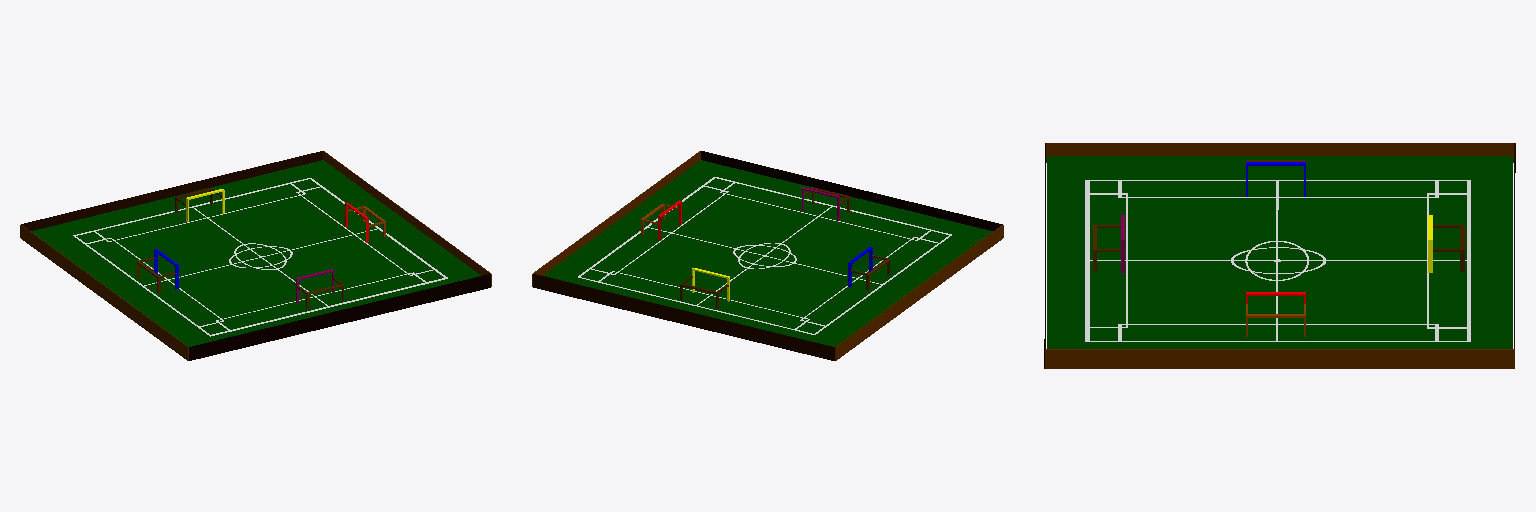
The robot description file, URDF, robot "arena":
<?xml version="1.0"?>
<!-- created with Phobos 1.0.1 "Capricious Choutengan" -->
  <robot name="arena">

    <link name="boundary">
      <inertial>
        <origin xyz="0 0 0" rpy="0 0 0"/>
        <mass value="0.001"/>
        <inertia ixx="0.001" ixy="0" ixz="0" iyy="0.001" iyz="0" izz="0.001"/>
      </inertial>
      <visual name="visual_0_field_1_20">
        <origin xyz="-0.37359 17.80021 0.49249" rpy="0 0 1.57"/>
        <geometry>
          <box size="0.0795 36.25032 1.58993"/>
        </geometry>
        <material name="field_1_20_visual_material"/>
      </visual>
      <visual name="visual_0_field_1_21">
        <origin xyz="-0.37359 -17.17816 0.49249" rpy="0 0 1.57"/>
        <geometry>
          <box size="0.0795 36.25032 1.58993"/>
        </geometry>
        <material name="field_1_21_visual_material"/>
      </visual>
      <visual name="visual_0_field_1_22">
        <origin xyz="17.81516 0.31103 0.49249" rpy="0 0 0"/>
        <geometry>
          <box size="0.0795 34.97837 1.58993"/>
        </geometry>
        <material name="field_1_22_visual_material.001"/>
      </visual>
      <visual name="visual_0_field_1_23">
        <origin xyz="-18.56234 0.31103 0.49249" rpy="0 0 0"/>
        <geometry>
          <box size="0.0795 34.97837 1.58993"/>
        </geometry>
        <material name="field_1_23_visual_material"/>
      </visual>
      <collision name="collision_0_field_1_20.000">
        <origin xyz="-0.37359 17.80021 0.49249" rpy="0 0 1.57"/>
        <geometry>
          <box size="0.0795 36.25032 1.58993"/>
        </geometry>
      </collision>
      <collision name="collision_0_field_1_21.000">
        <origin xyz="-0.37359 -17.17816 0.49249" rpy="0 0 1.57"/>
        <geometry>
          <box size="0.0795 36.25032 1.58993"/>
        </geometry>
      </collision>
      <collision name="collision_0_field_1_22.000">
        <origin xyz="17.81516 0.31103 0.49249" rpy="0 0 0"/>
        <geometry>
          <box size="0.0795 34.97837 1.58993"/>
        </geometry>
      </collision>
      <collision name="collision_0_field_1_23.000">
        <origin xyz="-18.56234 0.31103 0.49249" rpy="0 0 0"/>
        <geometry>
          <box size="0.0795 34.97837 1.58993"/>
        </geometry>
      </collision>
    </link>

    <link name="field_1">
      <inertial>
        <origin xyz="0 0 0" rpy="0 0 0"/>
        <mass value="0.001"/>
        <inertia ixx="0.001" ixy="0" ixz="0" iyy="0.001" iyz="0" izz="0.001"/>
      </inertial>
      <visual name="visual_0_field_1_10">
        <origin xyz="-0.37359 0.31103 0.00086" rpy="0 0 0"/>
        <geometry>
          <mesh filename="../meshes/dae/Field.001.dae" scale="3.49784 4.70071 4.76978"/>
        </geometry>
        <material name="field_1_10_visual_material"/>
      </visual>
      <collision name="collision_4_field_1">
        <origin xyz="-0.37359 0.31103 0.00086" rpy="0 0 0"/>
        <geometry>
          <box size="36.29588 34.78526 0.01431"/>
        </geometry>
      </collision>
    </link>

    <link name="field_1_10">
      <inertial>
        <origin xyz="0 0 0" rpy="0 0 0"/>
        <mass value="0.001"/>
        <inertia ixx="0.001" ixy="0" ixz="0" iyy="0.001" iyz="0" izz="0.001"/>
      </inertial>
    </link>

    <link name="field_1_3">
      <inertial>
        <origin xyz="0 0 0" rpy="0 0 0"/>
        <mass value="0.001"/>
        <inertia ixx="0.001" ixy="0" ixz="0" iyy="0.001" iyz="0" izz="0.001"/>
      </inertial>
      <visual name="visual_0_field_1_3">
        <origin xyz="-0.0403 0 -0.25252" rpy="0 0 0"/>
        <geometry>
          <mesh filename="../meshes/dae/Goalsopponent.dae" scale="3.09574 1.58993 1.58993"/>
        </geometry>
        <material name="field_1_3_visual_material"/>
      </visual>
      <collision name="Cube.004">
        <origin xyz="0.28285 -2.15724 0.20997" rpy="0 0 -3.14159"/>
        <geometry>
          <box size="2.34629 0.24 2.4"/>
        </geometry>
      </collision>
      <collision name="Cube.005">
        <origin xyz="0.28285 2.1699 0.20997" rpy="0 0 -3.14159"/>
        <geometry>
          <box size="2.34629 0.24 2.4"/>
        </geometry>
      </collision>
      <collision name="Cube.008">
        <origin xyz="1.398 0.02224 0.18806" rpy="0 0 1.5708"/>
        <geometry>
          <box size="4.48805 0.31154 2.4"/>
        </geometry>
      </collision>
    </link>

    <link name="field_1_4">
      <inertial>
        <origin xyz="0 0 0" rpy="0 0 0"/>
        <mass value="0.001"/>
        <inertia ixx="0.001" ixy="0" ixz="0" iyy="0.001" iyz="0" izz="0.001"/>
      </inertial>
      <visual name="visual_0_field_1_4">
        <origin xyz="-0.13031 8e-05 -0.25252" rpy="0 0 0"/>
        <geometry>
          <mesh filename="../meshes/dae/Goalsopponent.002.dae" scale="2.975 1.58993 1.58993"/>
        </geometry>
        <material name="field_1_4_visual_material"/>
      </visual>
      <collision name="Cube">
        <origin xyz="0.26586 2.11104 0.20997" rpy="0 0 3.14095"/>
        <geometry>
          <box size="2.25478 0.24 2.4"/>
        </geometry>
      </collision>
      <collision name="Cube.006">
        <origin xyz="0.26162 -2.15475 0.20997" rpy="0 0 3.14095"/>
        <geometry>
          <box size="2.25478 0.24 2.4"/>
        </geometry>
      </collision>
      <collision name="Cube.010">
        <origin xyz="1.29761 -0.0285 0.18806" rpy="0 0 1.5698"/>
        <geometry>
          <box size="4.48806 0.29939 2.4"/>
        </geometry>
      </collision>
    </link>

    <link name="field_1_5">
      <inertial>
        <origin xyz="0 0 0" rpy="0 0 0"/>
        <mass value="0.001"/>
        <inertia ixx="0.001" ixy="0" ixz="0" iyy="0.001" iyz="0" izz="0.001"/>
      </inertial>
      <visual name="visual_0_field_1_1">
        <origin xyz="0.18094 0 -0.25252" rpy="0 0 0"/>
        <geometry>
          <mesh filename="../meshes/dae/Goalsally.dae" scale="3.22758 1.58993 1.58993"/>
        </geometry>
        <material name="field_1_1_visual_material"/>
      </visual>
      <collision name="Cube.002">
        <origin xyz="-0.17927 2.12565 0.20997" rpy="0 0 -3.14159"/>
        <geometry>
          <box size="2.44621 0.24 2.4"/>
        </geometry>
      </collision>
      <collision name="Cube.003">
        <origin xyz="-0.17927 -2.15724 0.20997" rpy="0 0 -3.14159"/>
        <geometry>
          <box size="2.44621 0.24 2.4"/>
        </geometry>
      </collision>
      <collision name="Cube.009">
        <origin xyz="-1.28207 0.02224 0.18806" rpy="0 0 1.5708"/>
        <geometry>
          <box size="4.48805 0.3248 2.4"/>
        </geometry>
      </collision>
    </link>

    <link name="field_1_6">
      <inertial>
        <origin xyz="0 0 0" rpy="0 0 0"/>
        <mass value="0.001"/>
        <inertia ixx="0.001" ixy="0" ixz="0" iyy="0.001" iyz="0" izz="0.001"/>
      </inertial>
      <visual name="visual_0_field_1_2">
        <origin xyz="0.53928 0.00569 -0.25252" rpy="0 0 0"/>
        <geometry>
          <mesh filename="../meshes/dae/Goalsally.002.dae" scale="3.35214 1.58993 1.58993"/>
        </geometry>
        <material name="field_1_2_visual_material"/>
      </visual>
      <collision name="Cube.001">
        <origin xyz="0.19793 -2.08137 0.20997" rpy="0 0 3.14103"/>
        <geometry>
          <box size="2.54062 0.24 2.4"/>
        </geometry>
      </collision>
      <collision name="Cube.007">
        <origin xyz="0.18283 2.11675 0.20997" rpy="0 0 3.14103"/>
        <geometry>
          <box size="2.54062 0.24 2.4"/>
        </geometry>
      </collision>
      <collision name="Cube.011">
        <origin xyz="-1.01558 0.01088 0.18806" rpy="0 0 1.56968"/>
        <geometry>
          <box size="4.41311 0.33734 2.4"/>
        </geometry>
      </collision>
    </link>

    <link name="field_1_9">
      <inertial>
        <origin xyz="0 0 0" rpy="0 0 0"/>
        <mass value="0.001"/>
        <inertia ixx="0.001" ixy="0" ixz="0" iyy="0.001" iyz="0" izz="0.001"/>
      </inertial>
      <visual name="visual_0_field_1_11">
        <origin xyz="0.91214 -0.46502 -0.10845" rpy="0 0 1.57"/>
        <geometry>
          <mesh filename="../meshes/dae/Lines.dae" scale="3.17985 4.76978 4.76978"/>
        </geometry>
        <material name="field_1_11_visual_material"/>
      </visual>
      <visual name="visual_0_field_1_9">
        <origin xyz="-0.15082 -0.92735 -0.08445" rpy="0 0 0"/>
        <geometry>
          <mesh filename="../meshes/dae/Lines.002.dae" scale="3.17985 4.76978 4.76978"/>
        </geometry>
        <material name="field_1_9_visual_material"/>
      </visual>
    </link>

    <link name="new_link">
      <inertial>
        <origin xyz="0 0 0" rpy="0 0 0"/>
        <mass value="0.001"/>
        <inertia ixx="0.001" ixy="0" ixz="0" iyy="0.001" iyz="0" izz="0.001"/>
      </inertial>
      <visual name="visual_0_field_1_5">
        <origin xyz="-13.13893 0.37254 1.28951" rpy="0 0 0"/>
        <geometry>
          <mesh filename="../meshes/dae/Goalsallyback.dae" scale="3.22758 1.58993 1.58993"/>
        </geometry>
        <material name="field_1_5_visual_material"/>
      </visual>
      <visual name="visual_0_field_1_6">
        <origin xyz="-0.31394 13.57782 1.28951" rpy="0 0 -1.57"/>
        <geometry>
          <mesh filename="../meshes/dae/Goalsallyback.001.dae" scale="3.35214 1.58993 1.58993"/>
        </geometry>
        <material name="field_1_6_visual_material"/>
      </visual>
      <visual name="visual_0_field_1_7">
        <origin xyz="12.72299 0.37254 1.28951" rpy="0 0 0"/>
        <geometry>
          <mesh filename="../meshes/dae/Goalsopponentback.003.dae" scale="3.09574 1.58993 1.58993"/>
        </geometry>
        <material name="field_1_7_visual_material.001"/>
      </visual>
      <visual name="visual_0_field_1_8">
        <origin xyz="-0.31942 -12.46241 1.28951" rpy="0 0 -1.57"/>
        <geometry>
          <mesh filename="../meshes/dae/Goalsopponentback.dae" scale="2.975 1.58993 1.58993"/>
        </geometry>
        <material name="field_1_8_visual_material"/>
      </visual>
    </link>

    <joint name="boundary" type="floating">
      <origin xyz="0 0 -0.264" rpy="0 0 0"/>
      <parent link="field_1"/>
      <child link="boundary"/>
    </joint>

    <joint name="field_1_10_fixing" type="fixed">
      <origin xyz="0 0.31103 0.1527" rpy="0 0 0"/>
      <parent link="field_1"/>
      <child link="field_1_10"/>
      <limit effort="1" velocity="20"/>
    </joint>

    <joint name="field_1_3_fixing" type="fixed">
      <origin xyz="12.36481 0 1.03193" rpy="0 0 0"/>
      <parent link="field_1"/>
      <child link="field_1_3"/>
      <limit effort="1" velocity="20"/>
    </joint>

    <joint name="field_1_4_fixing" type="fixed">
      <origin xyz="0 -12.18337 1.03193" rpy="0 0 -1.57"/>
      <parent link="field_1"/>
      <child link="field_1_4"/>
      <limit effort="1" velocity="20"/>
    </joint>

    <joint name="field_1_5_fixing" type="fixed">
      <origin xyz="-12.25401 0 1.03193" rpy="0 0 0"/>
      <parent link="field_1"/>
      <child link="field_1_5"/>
      <limit effort="1" velocity="20"/>
    </joint>

    <joint name="field_1_6_fixing" type="fixed">
      <origin xyz="0 12.8522 1.03193" rpy="0 0 -1.57"/>
      <parent link="field_1"/>
      <child link="field_1_6"/>
      <limit effort="1" velocity="20"/>
    </joint>

    <joint name="field_1_9_fixing" type="fixed">
      <origin xyz="0 0.31103 0.1527" rpy="0 0 0"/>
      <parent link="field_1"/>
      <child link="field_1_9"/>
      <limit effort="1" velocity="20"/>
    </joint>

    <joint name="new_link" type="floating">
      <origin xyz="0.31985 -0.37254 0.0176" rpy="0 0 0"/>
      <parent link="field_1"/>
      <child link="new_link"/>
    </joint>

    <material name="field_1_10_visual_material">
      <color rgba="0 0.3 0 1.0"/>
    </material>

    <material name="field_1_11_visual_material">
      <color rgba="0.91765 0.91765 0.91765 1.0"/>
    </material>

    <material name="field_1_1_visual_material">
      <color rgba="0 0 1.0 1.0"/>
    </material>

    <material name="field_1_20_visual_material">
      <color rgba="0.16265 0.06479 0.00725 1.0"/>
    </material>

    <material name="field_1_21_visual_material">
      <color rgba="0.08354 0.01947 0.00556 1.0"/>
    </material>

    <material name="field_1_22_visual_material.001">
      <color rgba="0.4 0.2 0 1.0"/>
    </material>

    <material name="field_1_23_visual_material">
      <color rgba="0.4 0.2 0 1.0"/>
    </material>

    <material name="field_1_2_visual_material">
      <color rgba="1.0 1.0 0 1.0"/>
    </material>

    <material name="field_1_3_visual_material">
      <color rgba="1.0 0 0 1.0"/>
    </material>

    <material name="field_1_4_visual_material">
      <color rgba="0.6 0 0.4 1.0"/>
    </material>

    <material name="field_1_5_visual_material">
      <color rgba="0.36131 0.18448 0.00061 1.0"/>
    </material>

    <material name="field_1_6_visual_material">
      <color rgba="0.30499 0.15593 0 1.0"/>
    </material>

    <material name="field_1_7_visual_material.001">
      <color rgba="0.58144 0.2893 0 1.0"/>
    </material>

    <material name="field_1_8_visual_material">
      <color rgba="0.36131 0.18448 0.00061 1.0"/>
    </material>

    <material name="field_1_9_visual_material">
      <color rgba="0.91765 0.91765 0.91765 1.0"/>
    </material>

  </robot>

--- Facts derived from the render (not from the file) ---
The picture shows the robot from 3 angles, left to right: view 1: azimuth 30°, elevation 25°; view 2: azimuth 150°, elevation 25°; view 3: azimuth 270°, elevation 25°; orthographic projection.
Robot: arena — 9 links, 8 joints (6 fixed, 2 floating); root link field_1; default pose: every joint at zero.
Visible links, largest first — view 1: field_1, boundary, field_1_9, new_link; view 2: field_1, boundary, field_1_9, new_link; view 3: field_1, boundary, field_1_9, new_link.
Link boxes in pixels (x1,y1,x2,y2): field_1: [31, 160, 480, 346]; boundary: [20, 151, 491, 360]; field_1_9: [73, 178, 447, 336]; new_link: [137, 188, 385, 308]; field_1: [543, 160, 992, 346]; boundary: [532, 151, 1003, 360]; field_1_9: [578, 177, 951, 334]; new_link: [641, 187, 889, 308]; field_1: [1047, 156, 1512, 348]; boundary: [1044, 143, 1515, 368]; field_1_9: [1085, 180, 1470, 341]; new_link: [1093, 160, 1464, 336].
Size in the robot's own frame: 36.46 by 35.09 by 3.33 metres.
Meshes: 11 distinct files referenced, 11 mesh visuals loaded (11 Collada DAE).